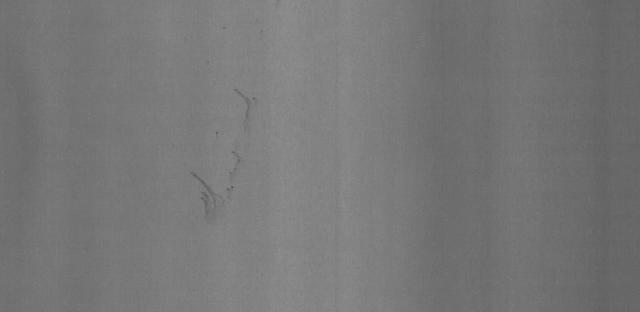water_spot: (182, 83, 264, 233)
